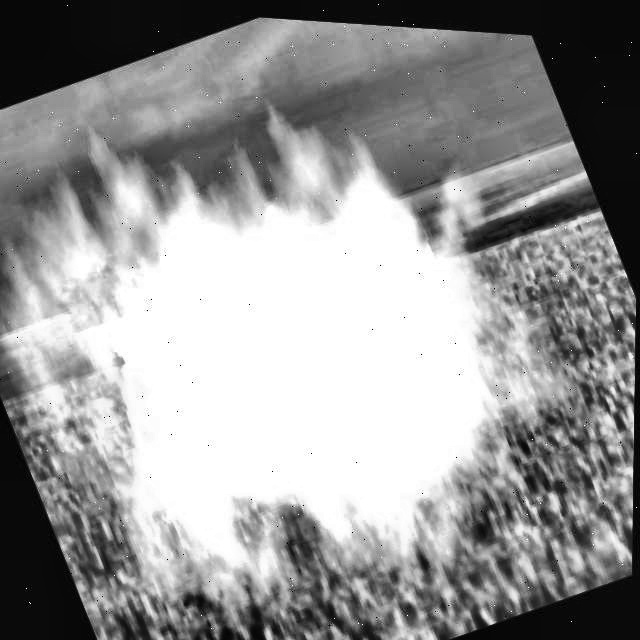Smoke: (0, 16, 634, 640)
